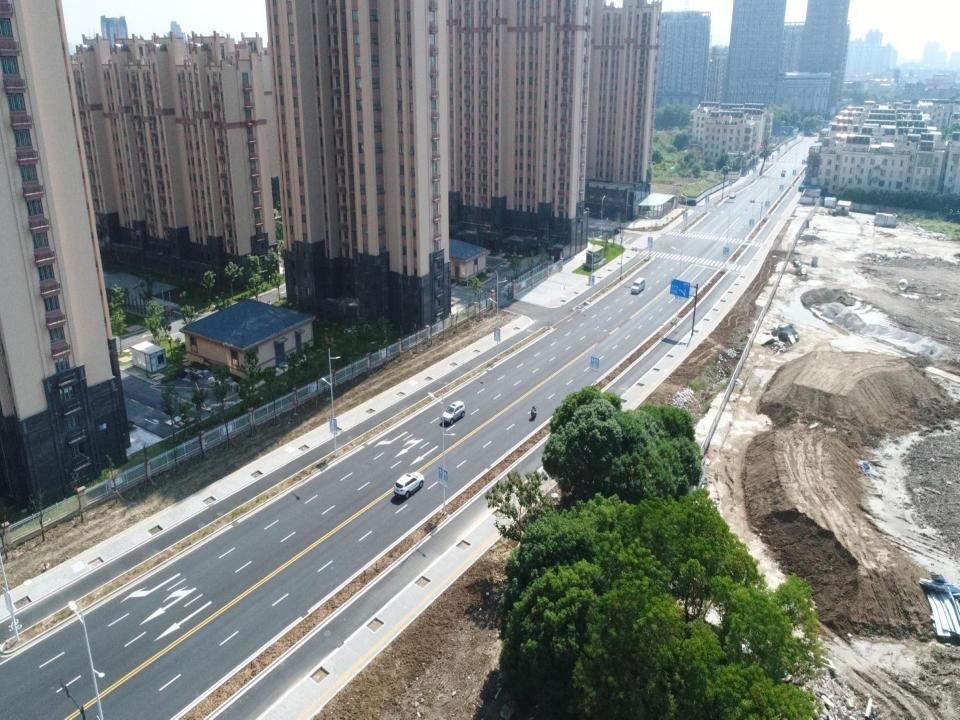car: (392, 472, 424, 498), (439, 398, 464, 424), (728, 192, 734, 197)
van: (630, 276, 646, 295)
